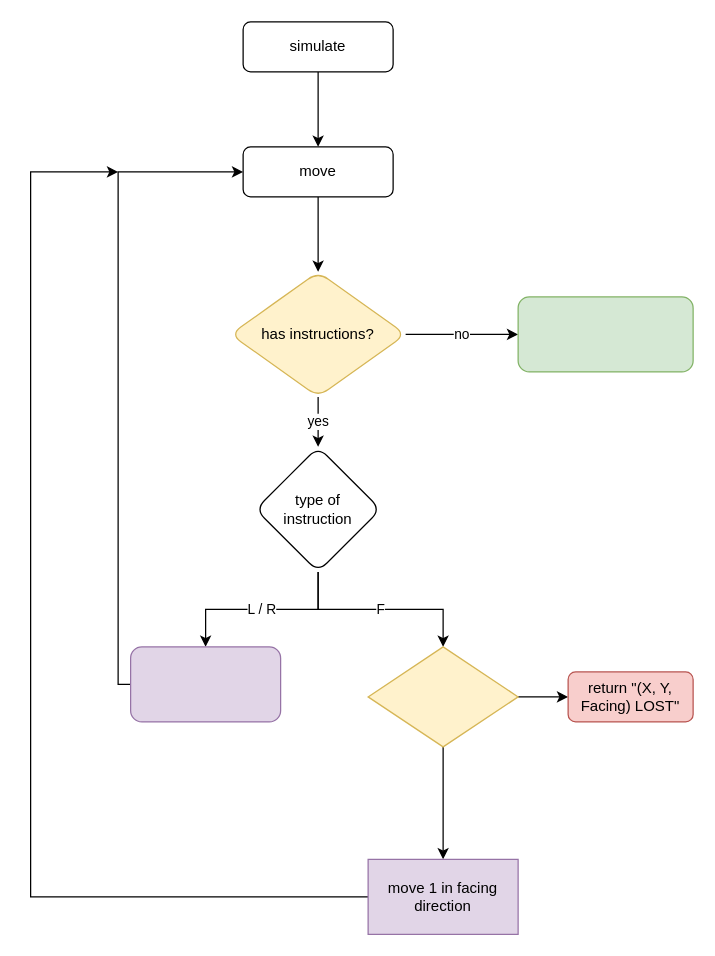
The diagram is 715 pixels wide and 956 high, and some of its shapes have lost their labels. Each missing label, with the centre of its shape:
can move in bounds?: the point at 442,696
return "(X, Y, Facing)": the point at 605,334
turn(facing, direction): the point at 205,684
